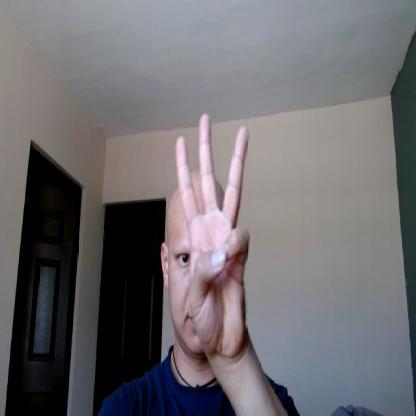W: (175, 111, 251, 360)
